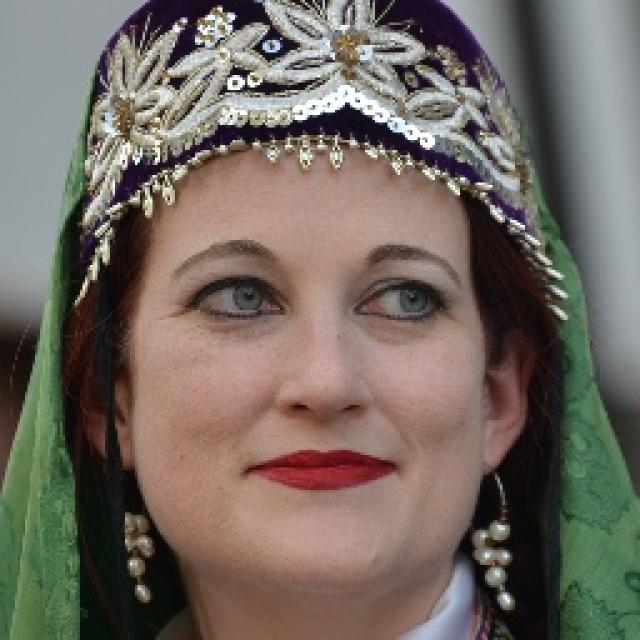earlobe: (478, 312, 535, 473)
